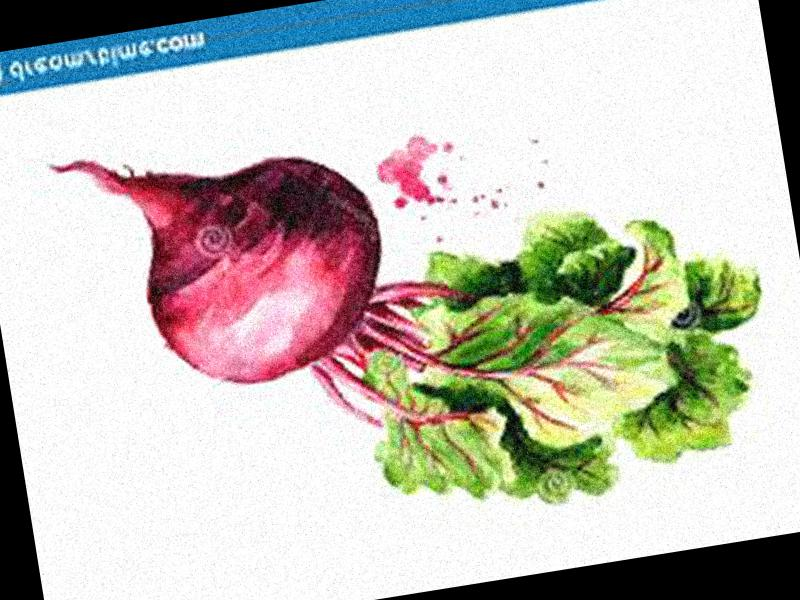Beet: (53, 56, 792, 574)
